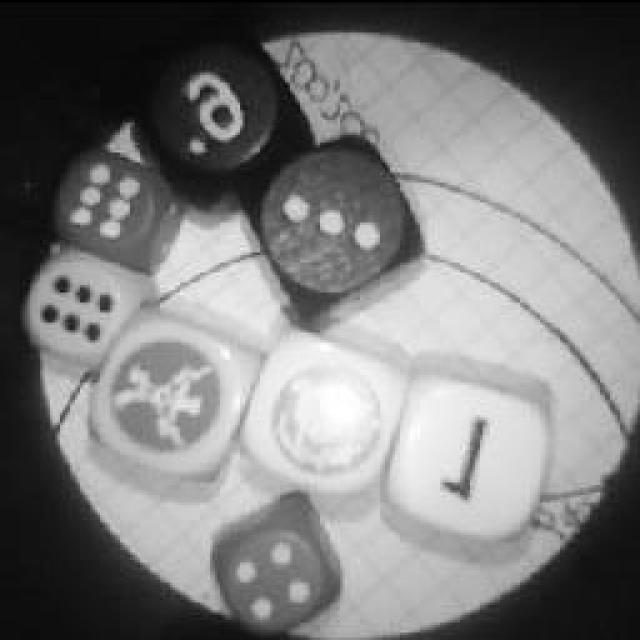dice_3: (235, 130, 430, 320)
dice_4: (205, 488, 347, 638)
dice_6: (20, 237, 158, 375), (48, 142, 188, 278)
